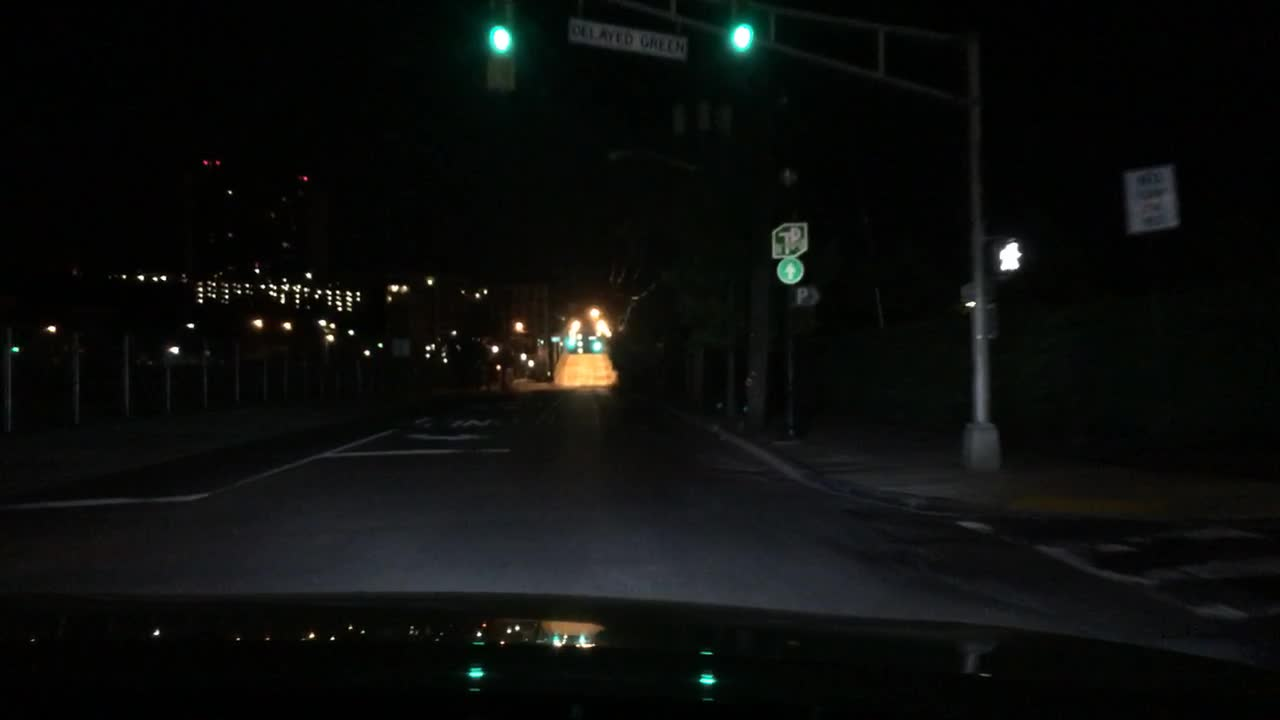car: (565, 334, 603, 353)
traffic light: (485, 18, 513, 88), (723, 21, 754, 73), (994, 240, 1022, 272)
traffic sign: (566, 19, 690, 62), (1123, 163, 1177, 237), (770, 220, 808, 259), (774, 258, 804, 284), (792, 288, 821, 307), (549, 335, 561, 341)
